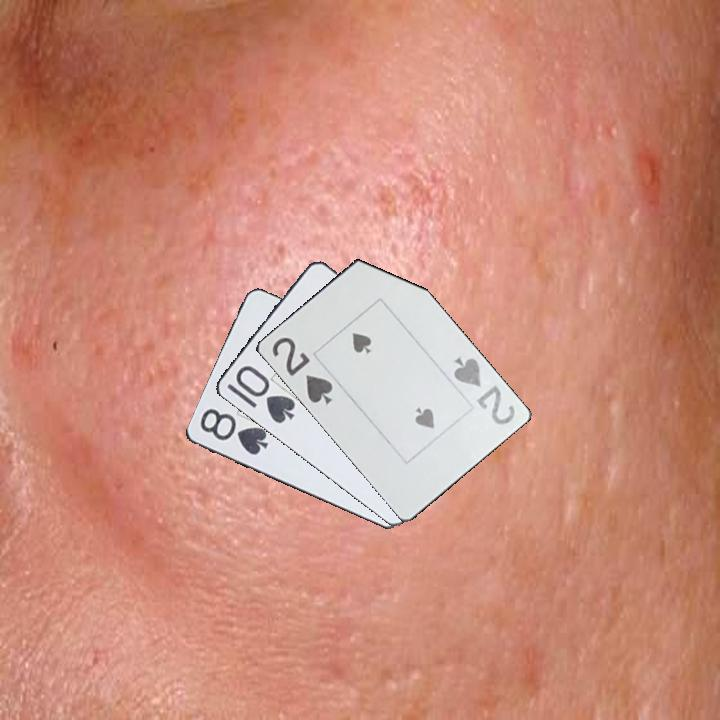2s: (450, 353, 518, 429), (268, 333, 336, 408)
8s: (196, 405, 271, 458)
Ts: (222, 362, 298, 427)
